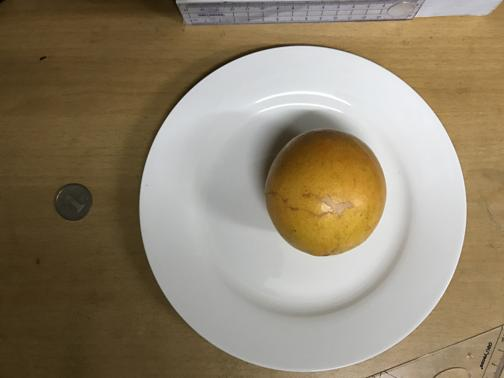coin: (54, 183, 91, 222)
orange: (262, 126, 388, 257)
